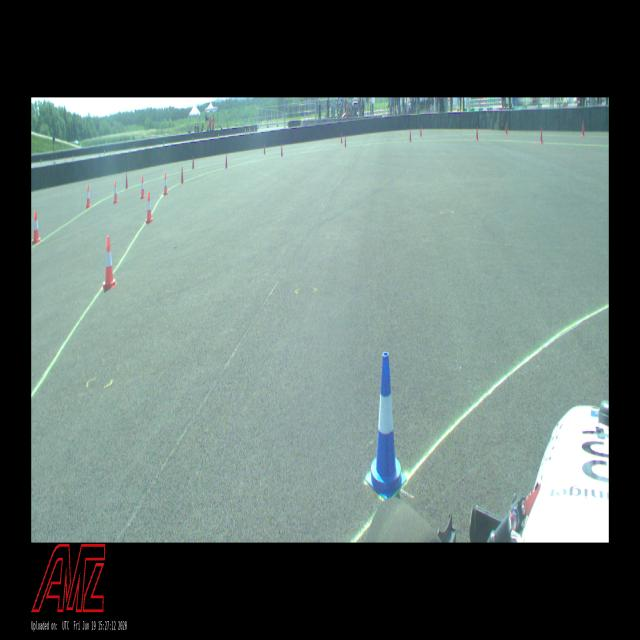blue_cone: (366, 352, 407, 499)
orange_cone: (103, 237, 116, 289), (32, 212, 41, 244), (146, 192, 153, 223), (140, 177, 146, 198), (86, 185, 91, 207), (164, 173, 168, 195), (114, 181, 118, 202)
unknown_cone: (181, 167, 184, 184), (540, 127, 543, 143), (225, 154, 228, 168), (476, 126, 479, 140), (192, 157, 195, 169), (409, 130, 412, 142), (505, 122, 508, 134), (126, 173, 128, 189), (582, 121, 584, 136), (281, 144, 283, 156), (344, 136, 346, 148), (420, 127, 422, 137)
